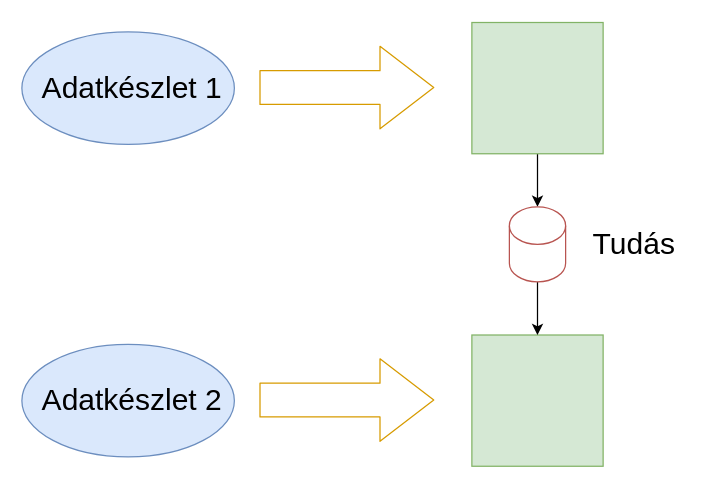
This 706x488 diagram has some shape labels left out. Each missing label, with the centre of its shape:
"Modell 1" goes at point (537, 87).
"Modell 2" goes at point (537, 400).
